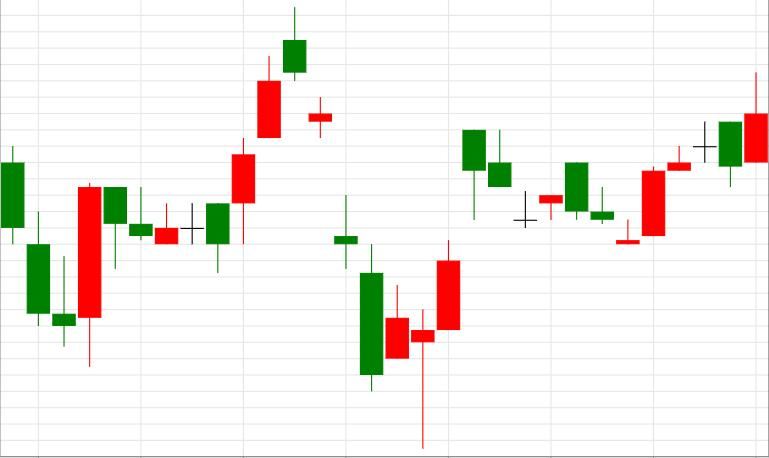hanging_man_fall: (360, 130, 486, 449)
shooting_star_fall: (207, 7, 306, 274)
